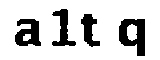1: (49, 7, 78, 51)
a: (12, 19, 44, 50)
q: (118, 13, 153, 60)
t: (79, 11, 103, 50)
